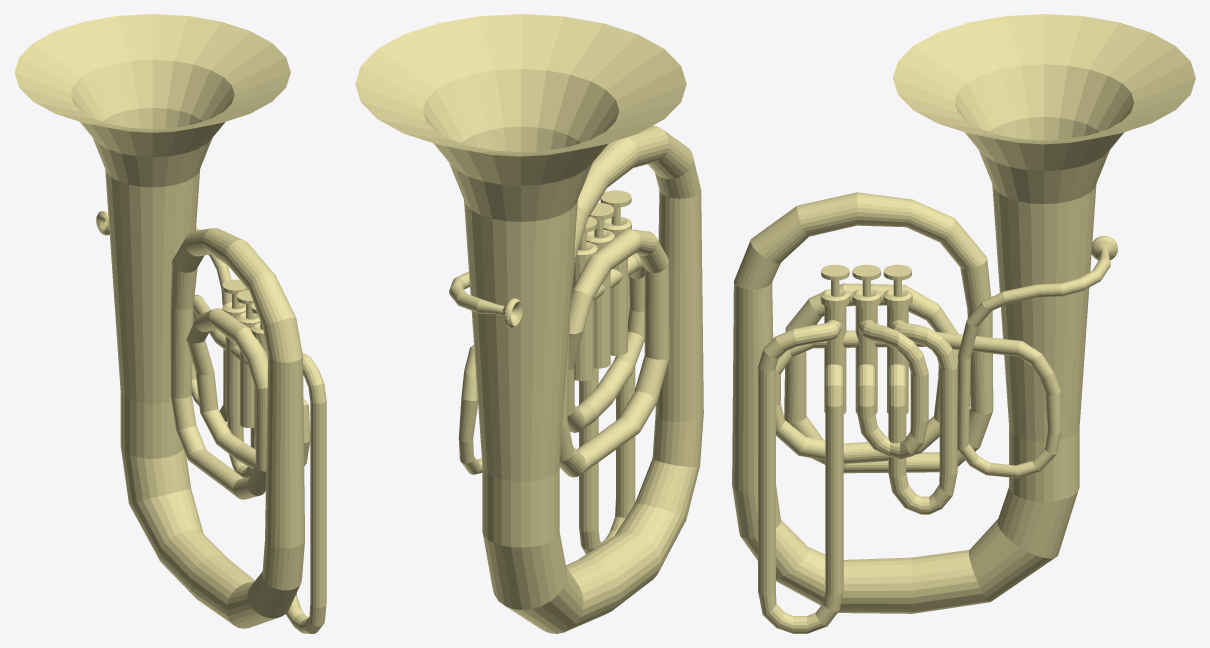
The model's file is tuba.glb.
The picture shows the model from 3 angles, left to right: view 1: azimuth 30°, elevation 25°; view 2: azimuth 150°, elevation 25°; view 3: azimuth 270°, elevation 25°; orthographic projection. The views are drawn at different scales.
Parts seen in each view (by area): view 1: Cylinder; view 2: Cylinder; view 3: Cylinder.
Boxes of the visible parts, x1,y1,x2,y2 form: Cylinder: (14,14,326,633); Cylinder: (355,14,703,633); Cylinder: (732,14,1195,633).
Size of the model in its own units: 38.75 by 75.31 by 59.29.
